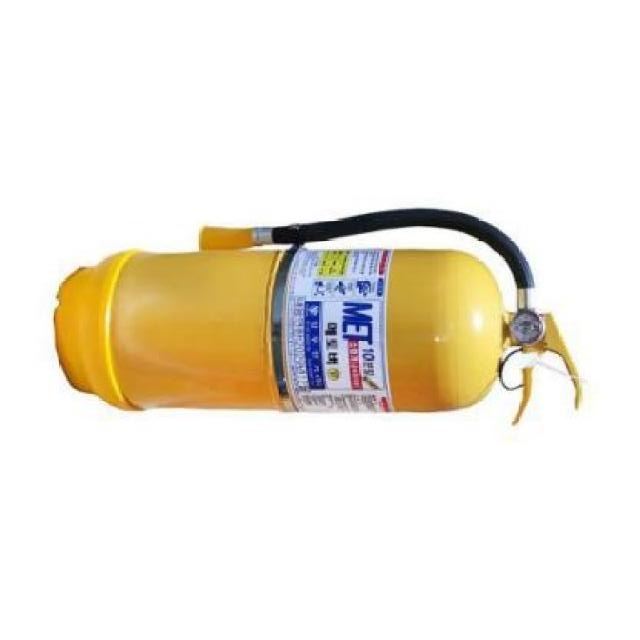fire extinguisher: (52, 208, 591, 427)
